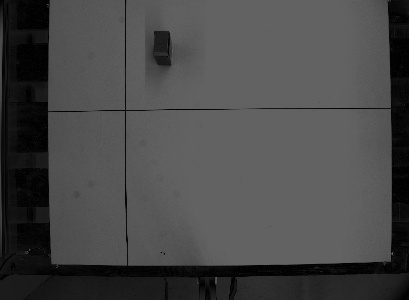b1: (152, 28, 174, 68)
